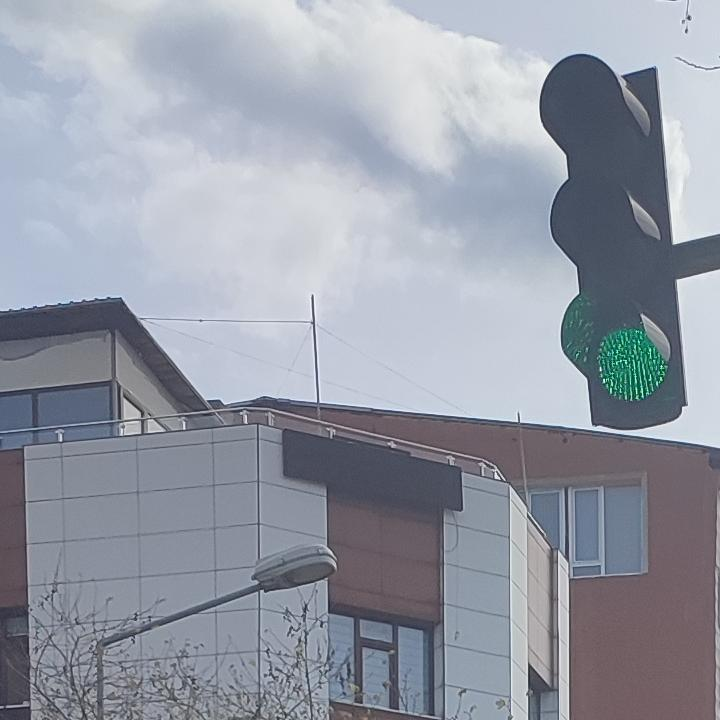green: (536, 59, 688, 436)
